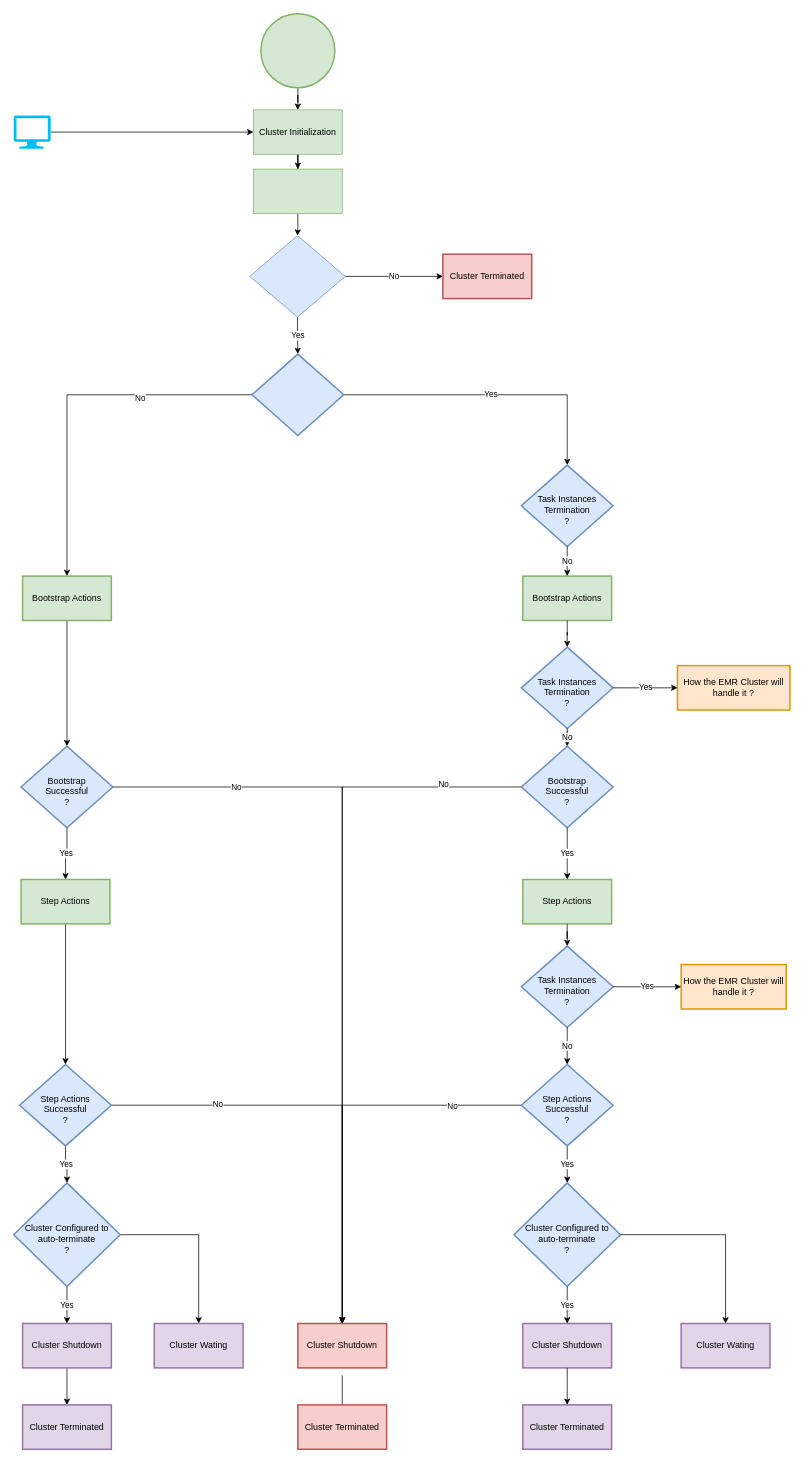
Image size: 803x1462. Some labels were removed from this diagram. The shapes that lost their labels are listed below. From the top down, each one's centre as x and y in pixels, then its label:
point 297,50: Start
point 31,131: TWS
point 297,190: Node Provisioning
point 297,276: Provisioning Successful ?
point 297,394: Spot Instances ?
